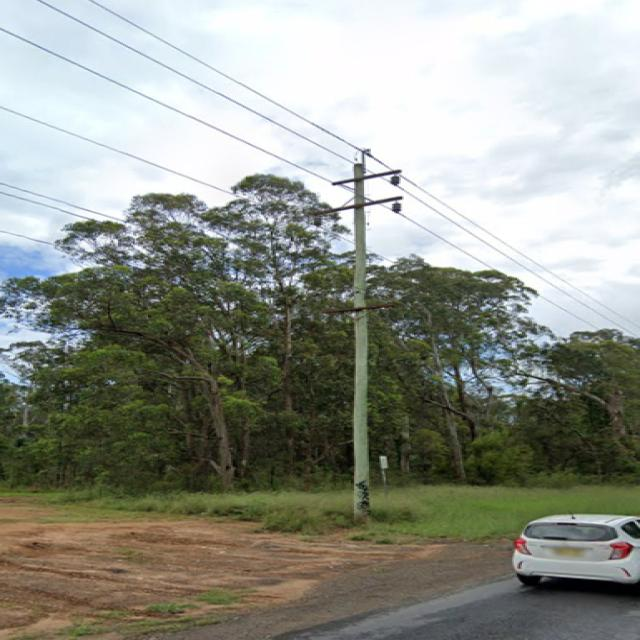HV-transmission: (310, 158, 402, 222)
crossarm: (308, 198, 398, 217), (331, 168, 399, 185), (321, 303, 392, 313)
timber-pole: (349, 162, 364, 526)
